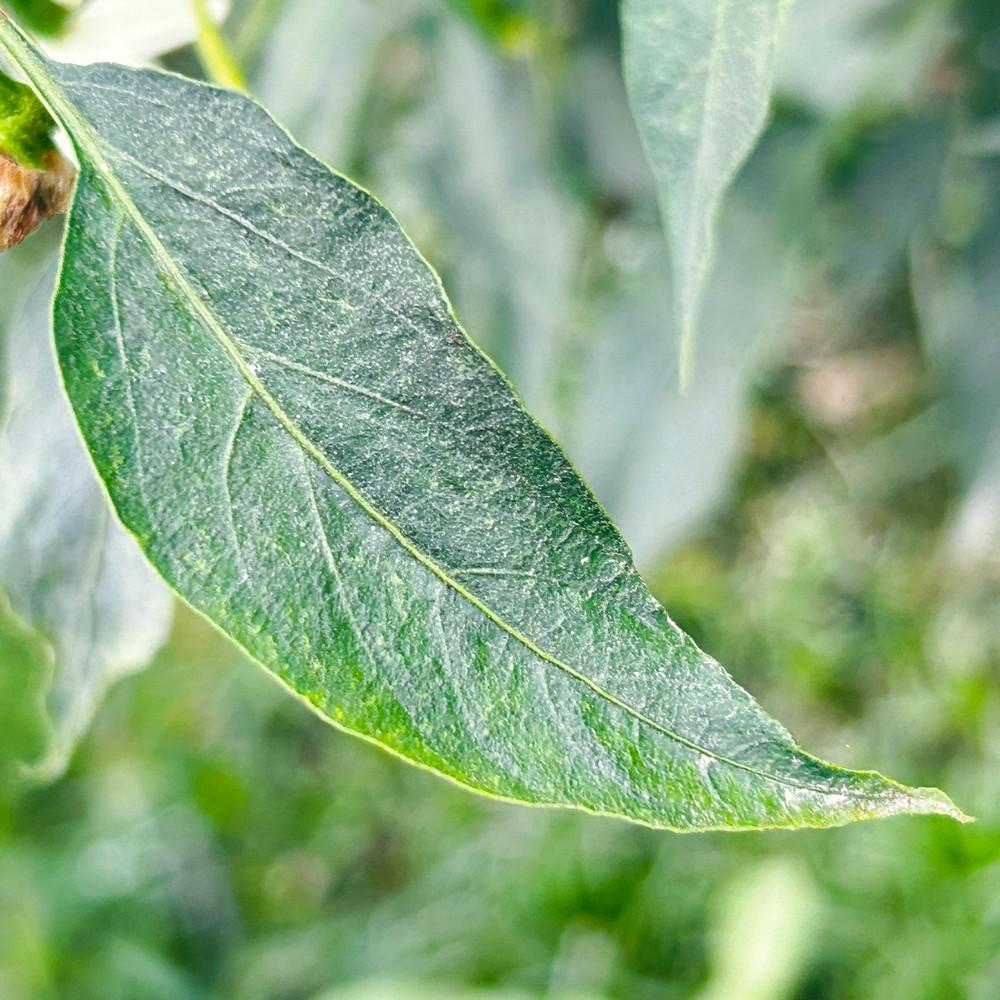Daun Cabai Sehat: (1, 4, 976, 836)
